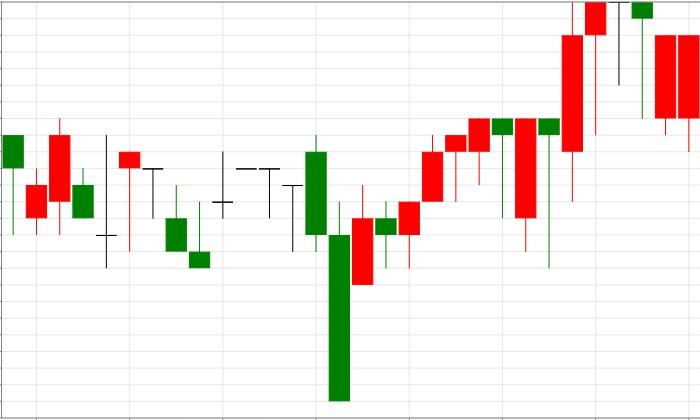inverse_hammer_rise: (118, 150, 210, 269)
